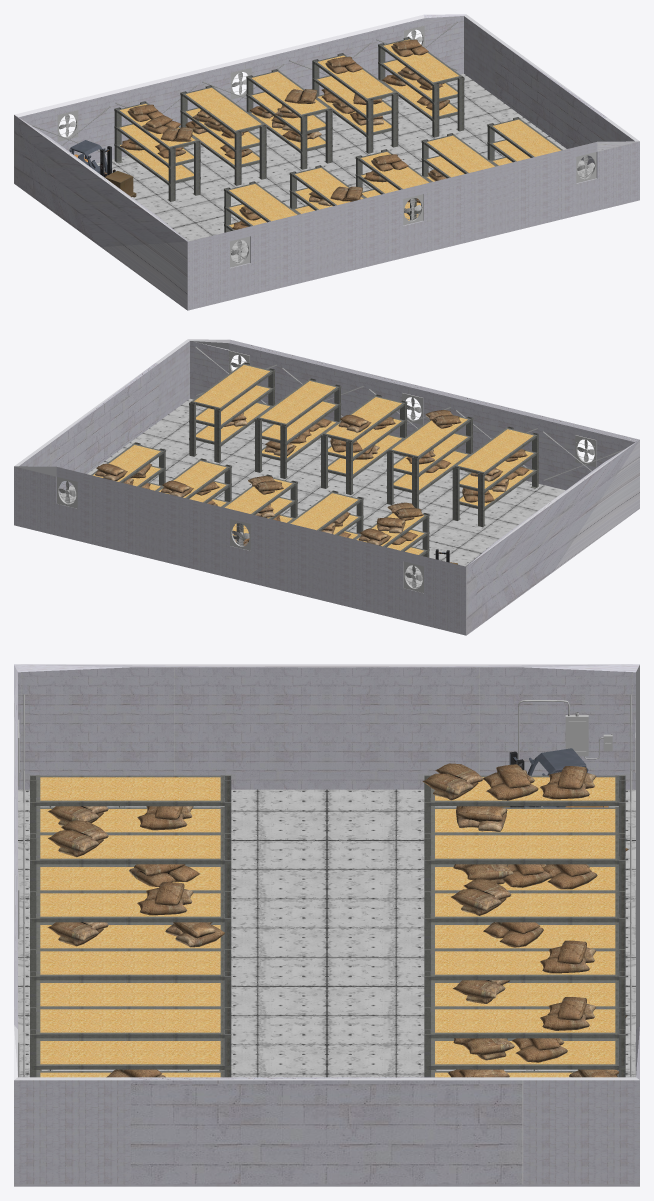
File: warehouse.dae
The picture shows the model from 3 angles, top to bottom: view 1: azimuth 30°, elevation 25°; view 2: azimuth 150°, elevation 25°; view 3: azimuth 270°, elevation 25°; orthographic projection. The views are drawn at different scales.
Visible parts, largest first — view 1: Walls_Floor, instance_7_031, box2, instance_7_049, instance_7_085, instance_7_076, instance_7_022, instance_7_004, instance_7_013, instance_7_058, instance_7_067, instance_5_040 (+20 smaller); view 2: Walls_Floor, instance_7_085, instance_7_049, instance_7_076, instance_7_031, instance_7_058, instance_7_067, instance_7_022, instance_6_085, instance_6_076, instance_7_013, instance_7_004 (+15 smaller); view 3: Walls_Floor, instance_7_031, instance_7_049, instance_6_076, instance_7_076, instance_7_085, instance_6_085, instance_7_058, instance_7_022, instance_7_004, instance_7_067, instance_6_040 (+50 smaller).
Part boxes in pixels (bbox=[...]): Walls_Floor: bbox=[14, 14, 639, 310]; instance_7_031: bbox=[186, 87, 261, 130]; box2: bbox=[69, 140, 136, 197]; instance_7_049: bbox=[229, 184, 297, 221]; instance_7_085: bbox=[493, 119, 560, 156]; instance_7_076: bbox=[427, 135, 494, 172]; instance_7_022: bbox=[252, 71, 327, 114]; instance_7_004: bbox=[383, 39, 458, 82]; instance_7_013: bbox=[318, 55, 392, 98]; instance_7_058: bbox=[295, 168, 363, 205]; instance_7_067: bbox=[361, 152, 428, 188]; instance_5_040: bbox=[120, 144, 193, 180]; Walls_Floor: bbox=[14, 339, 639, 635]; instance_7_085: bbox=[194, 365, 269, 407]; instance_7_049: bbox=[458, 429, 533, 471]; instance_7_076: bbox=[260, 381, 335, 423]; instance_7_031: bbox=[290, 493, 358, 530]; instance_7_058: bbox=[392, 417, 467, 455]; instance_7_067: bbox=[326, 397, 401, 439]; instance_7_022: bbox=[225, 479, 292, 513]; instance_6_085: bbox=[196, 385, 269, 424]; instance_6_076: bbox=[262, 401, 335, 440]; instance_7_013: bbox=[159, 461, 226, 497]; instance_7_004: bbox=[93, 445, 160, 481]; Walls_Floor: bbox=[14, 664, 639, 1186]; instance_7_031: bbox=[435, 835, 615, 858]; instance_7_049: bbox=[40, 777, 220, 800]; instance_6_076: bbox=[40, 983, 220, 1006]; instance_7_076: bbox=[40, 951, 220, 974]; instance_7_085: bbox=[40, 1009, 220, 1032]; instance_6_085: bbox=[40, 1041, 220, 1064]; instance_7_058: bbox=[40, 835, 220, 858]; instance_7_022: bbox=[435, 893, 615, 916]; instance_7_004: bbox=[435, 1009, 615, 1032]; instance_7_067: bbox=[40, 893, 220, 916]; instance_6_040: bbox=[435, 809, 615, 832].
Size of what is drawn, in the model's own units: 27.46 by 18.25 by 4.
Materials: 14 (10 with a texture image).
